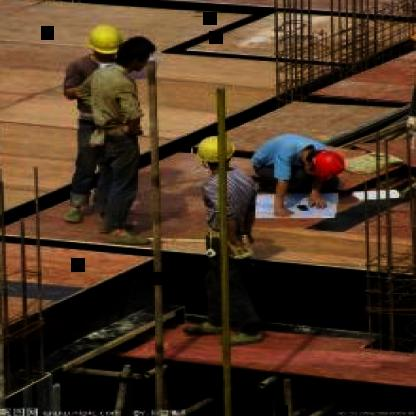head: (112, 36, 160, 70)
helmet: (189, 136, 238, 174), (87, 23, 123, 61), (310, 150, 346, 184)
